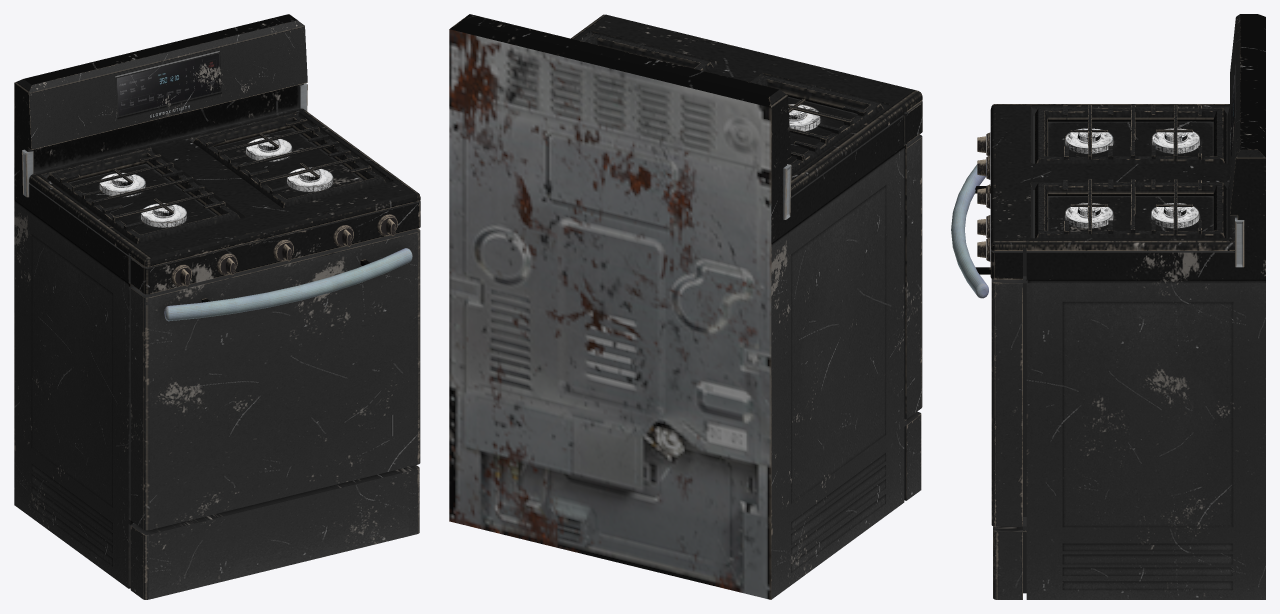
File: oven.glb
3 renders of one model, left to right at view 1: azimuth 30°, elevation 25°; view 2: azimuth 150°, elevation 25°; view 3: azimuth 270°, elevation 25°, orthographic. The views are drawn at different scales.
Visible parts, largest first — view 1: Stove; view 2: Stove; view 3: Stove.
Part boxes in pixels (x1=…): Stove: x1=14, y1=14, x2=420, y2=599; Stove: x1=449, y1=14, x2=922, y2=599; Stove: x1=951, y1=14, x2=1265, y2=599.
Bounding box in the file's own units: 373 × 540 × 344.
1 material, 1 textured.
